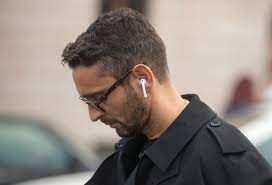earphone: (133, 64, 154, 98)
